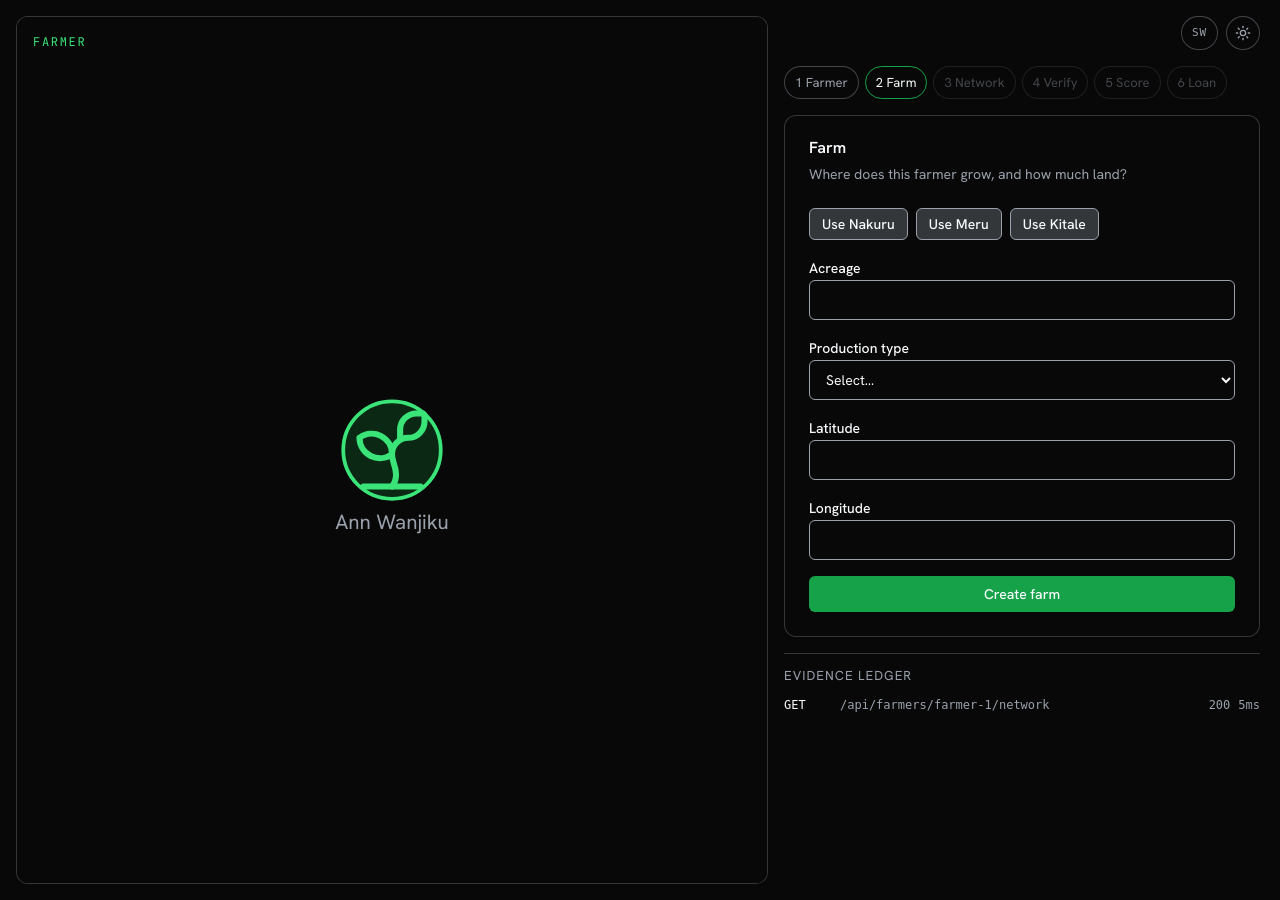
Test: Step 2 — Farm › fills coordinates from a quick-pick preset
Click the button "Use Nakuru" at x=858, y=224, box [809,208,908,240]
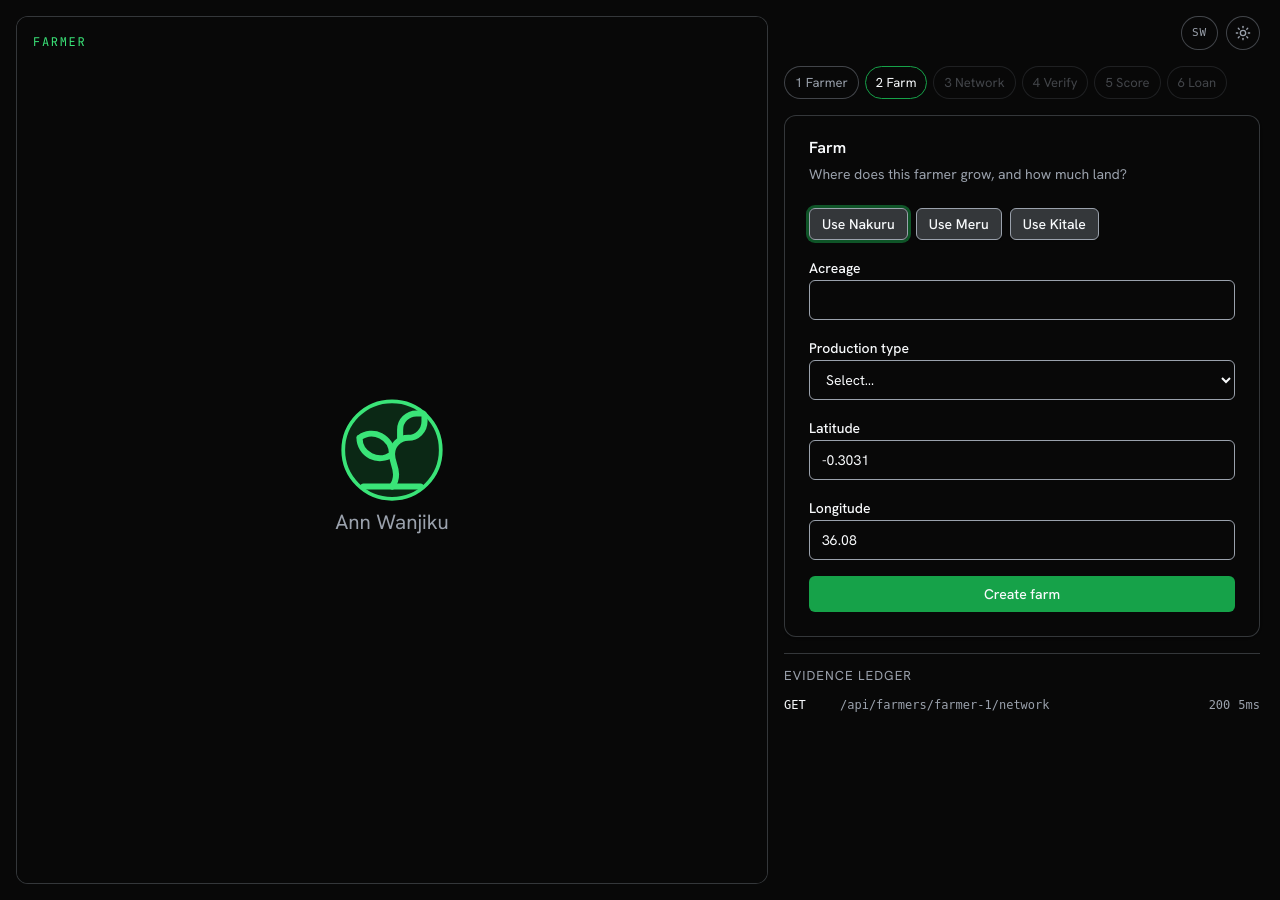
Check: the field labelled "Latitude" holds "-0.3031", box [809,440,1235,480]
Check: the field labelled "Longitude" holds "36.08", box [809,520,1235,560]
